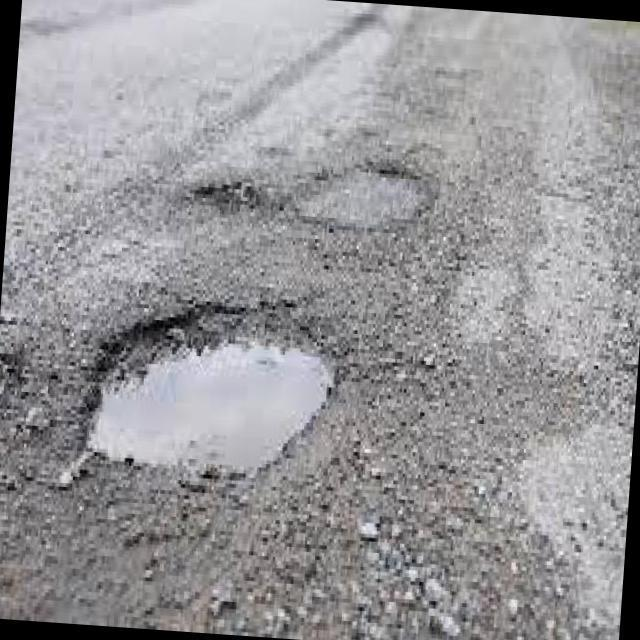pothole: (74, 298, 352, 482)
